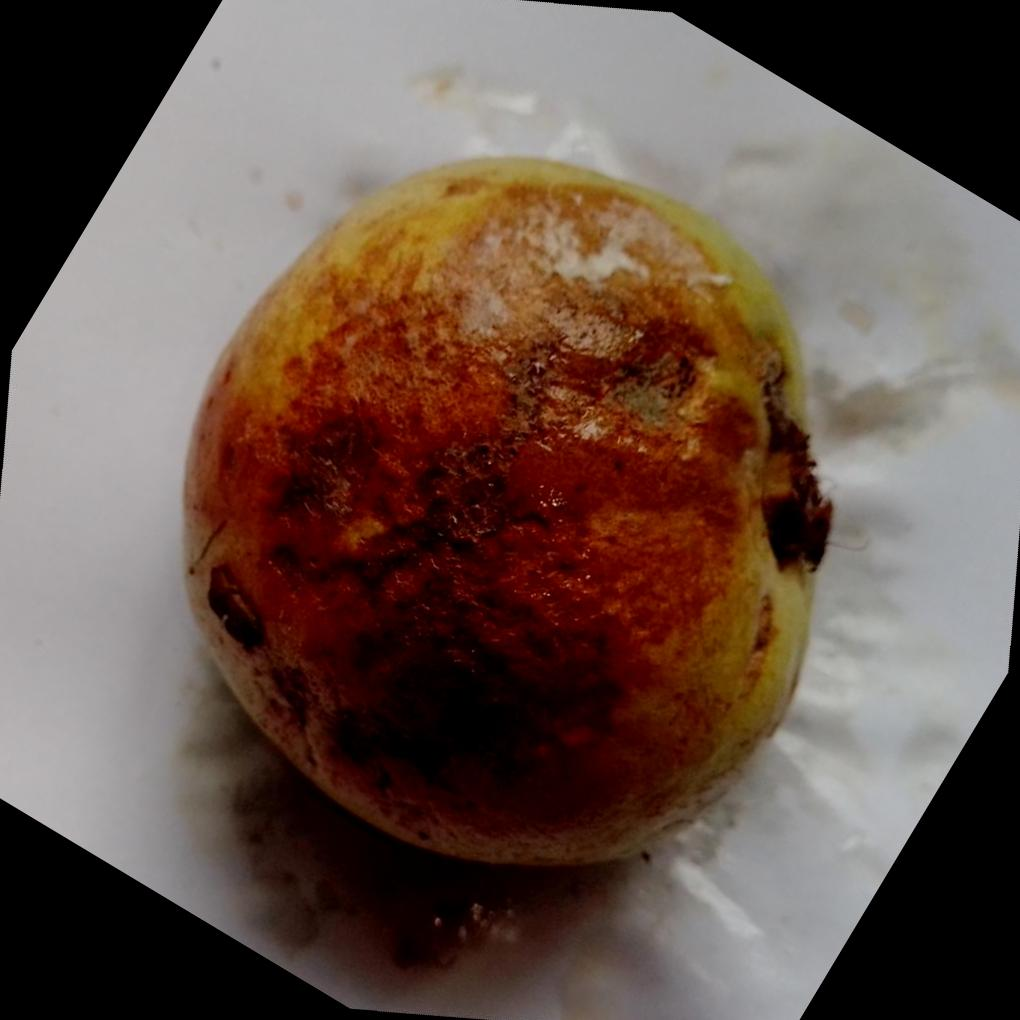FreshOrange: (176, 156, 834, 871)
